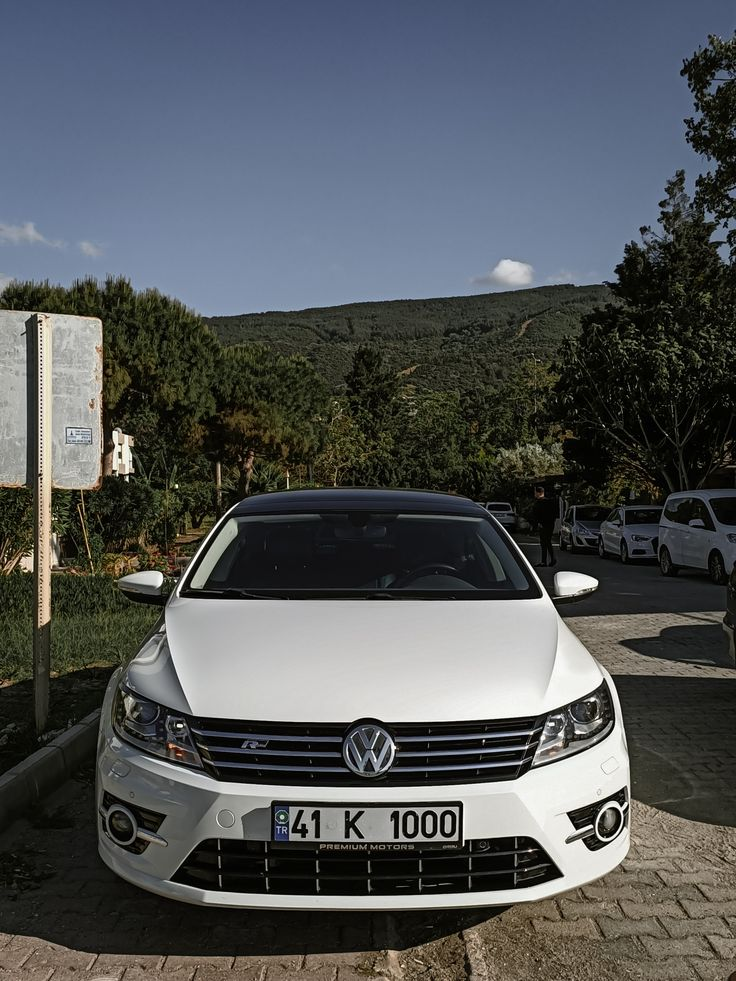plate: (275, 808, 458, 848)
